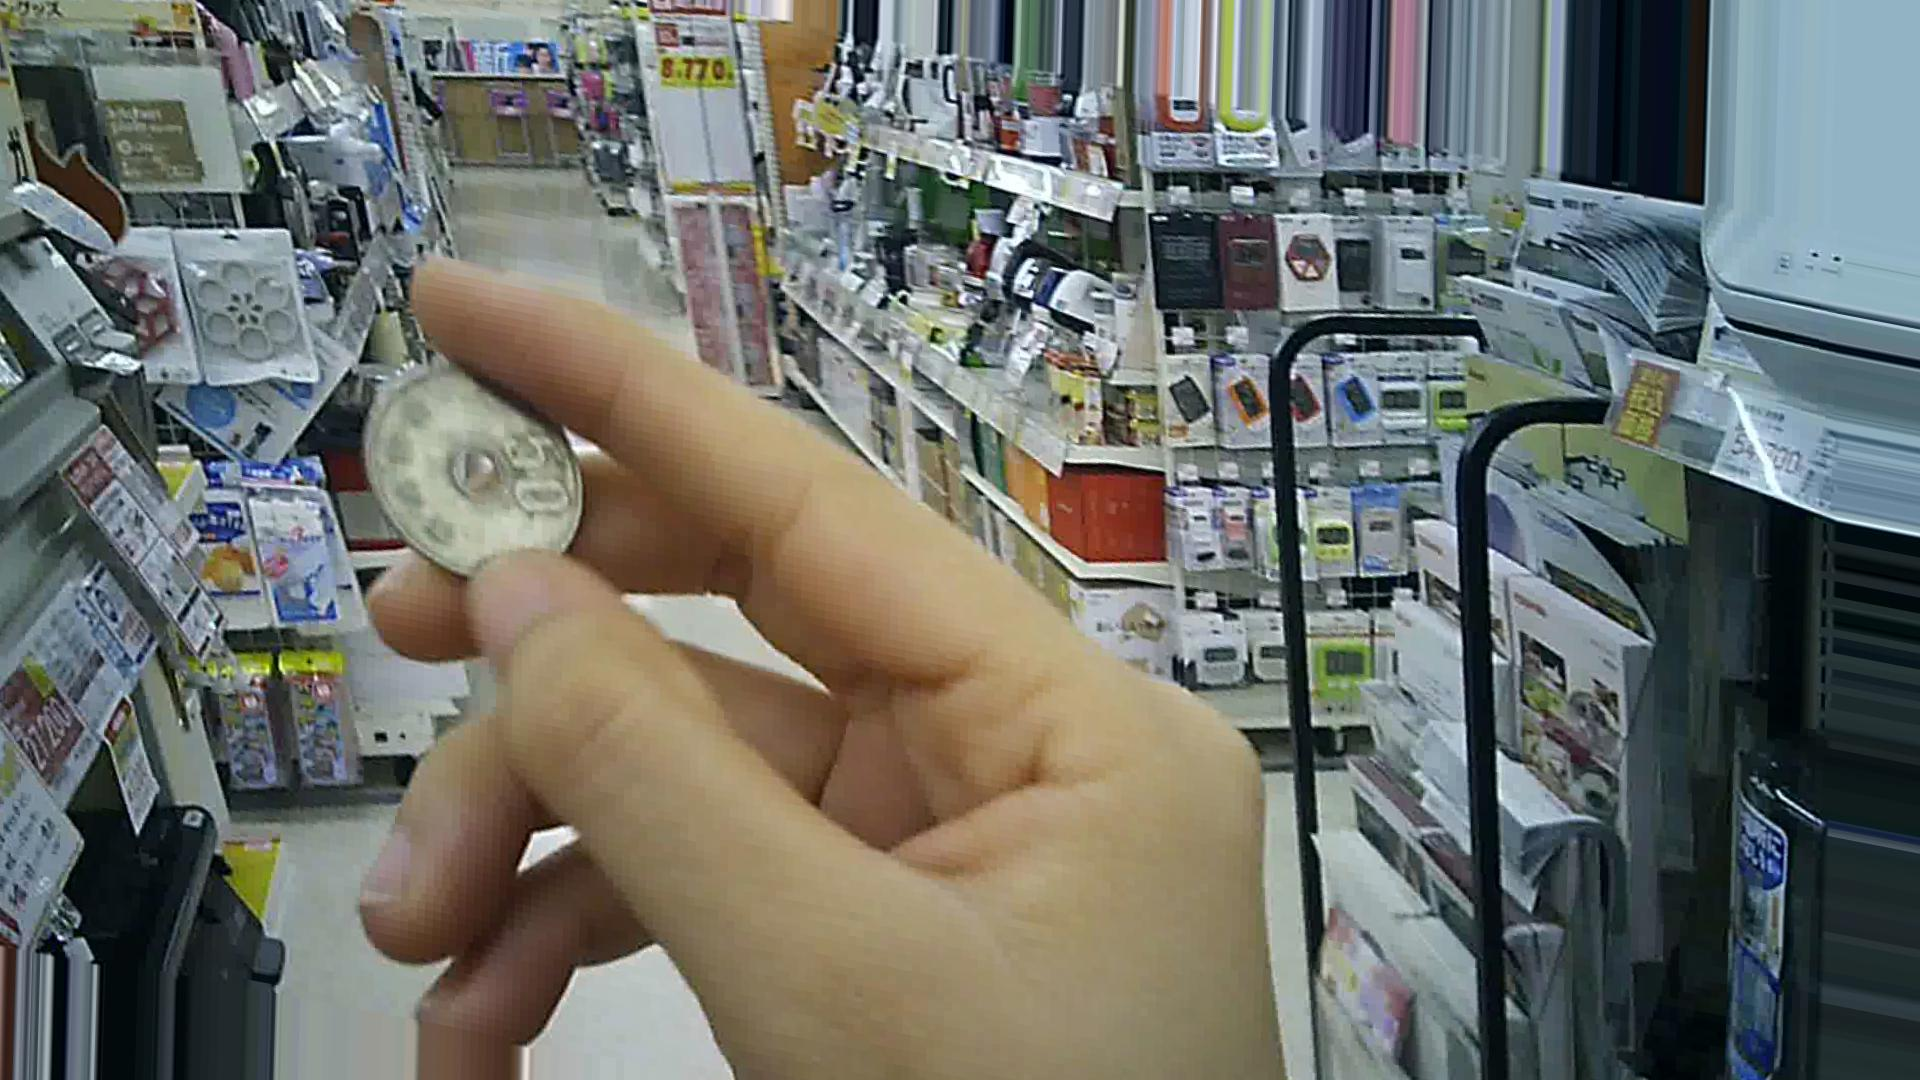50 Yen: (357, 357, 600, 607)
